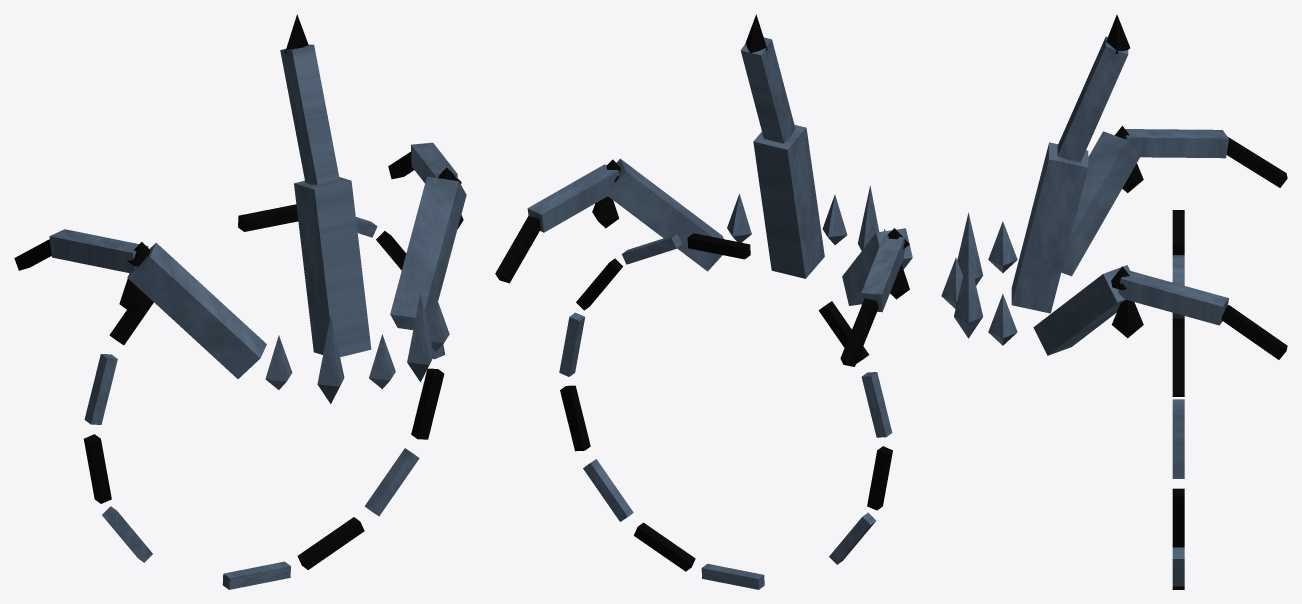
Rendered from rival_mother_crown.obj.
The picture shows the model from 3 angles, left to right: view 1: azimuth 30°, elevation 25°; view 2: azimuth 150°, elevation 25°; view 3: azimuth 270°, elevation 25°; orthographic projection. The views are drawn at different scales.
Parts seen in each view (by area): view 1: rival_mother_crown; view 2: rival_mother_crown; view 3: rival_mother_crown.
Boxes of the visible parts, x1,y1,x2,y2 form: rival_mother_crown: [14, 14, 466, 589]; rival_mother_crown: [495, 14, 912, 589]; rival_mother_crown: [941, 14, 1287, 589].
Bounding box in the file's own units: 0.9814 × 1.44 × 0.807.
